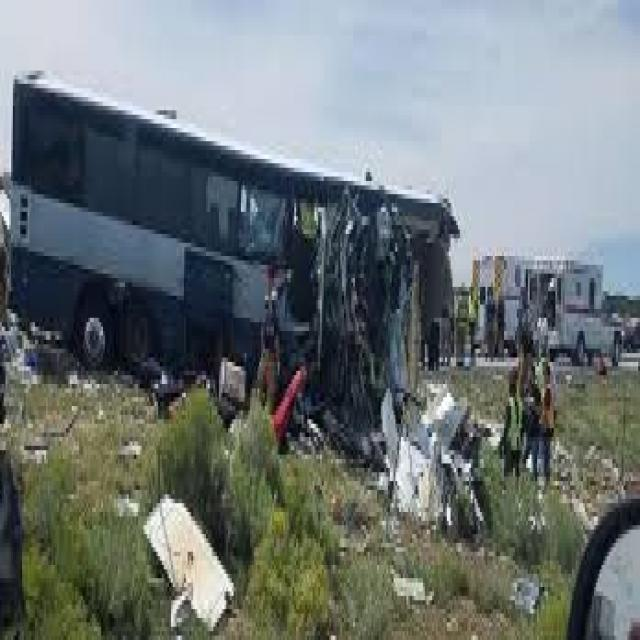accident: (5, 45, 472, 457)
